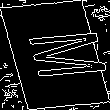M_E: (5, 28, 105, 82)
